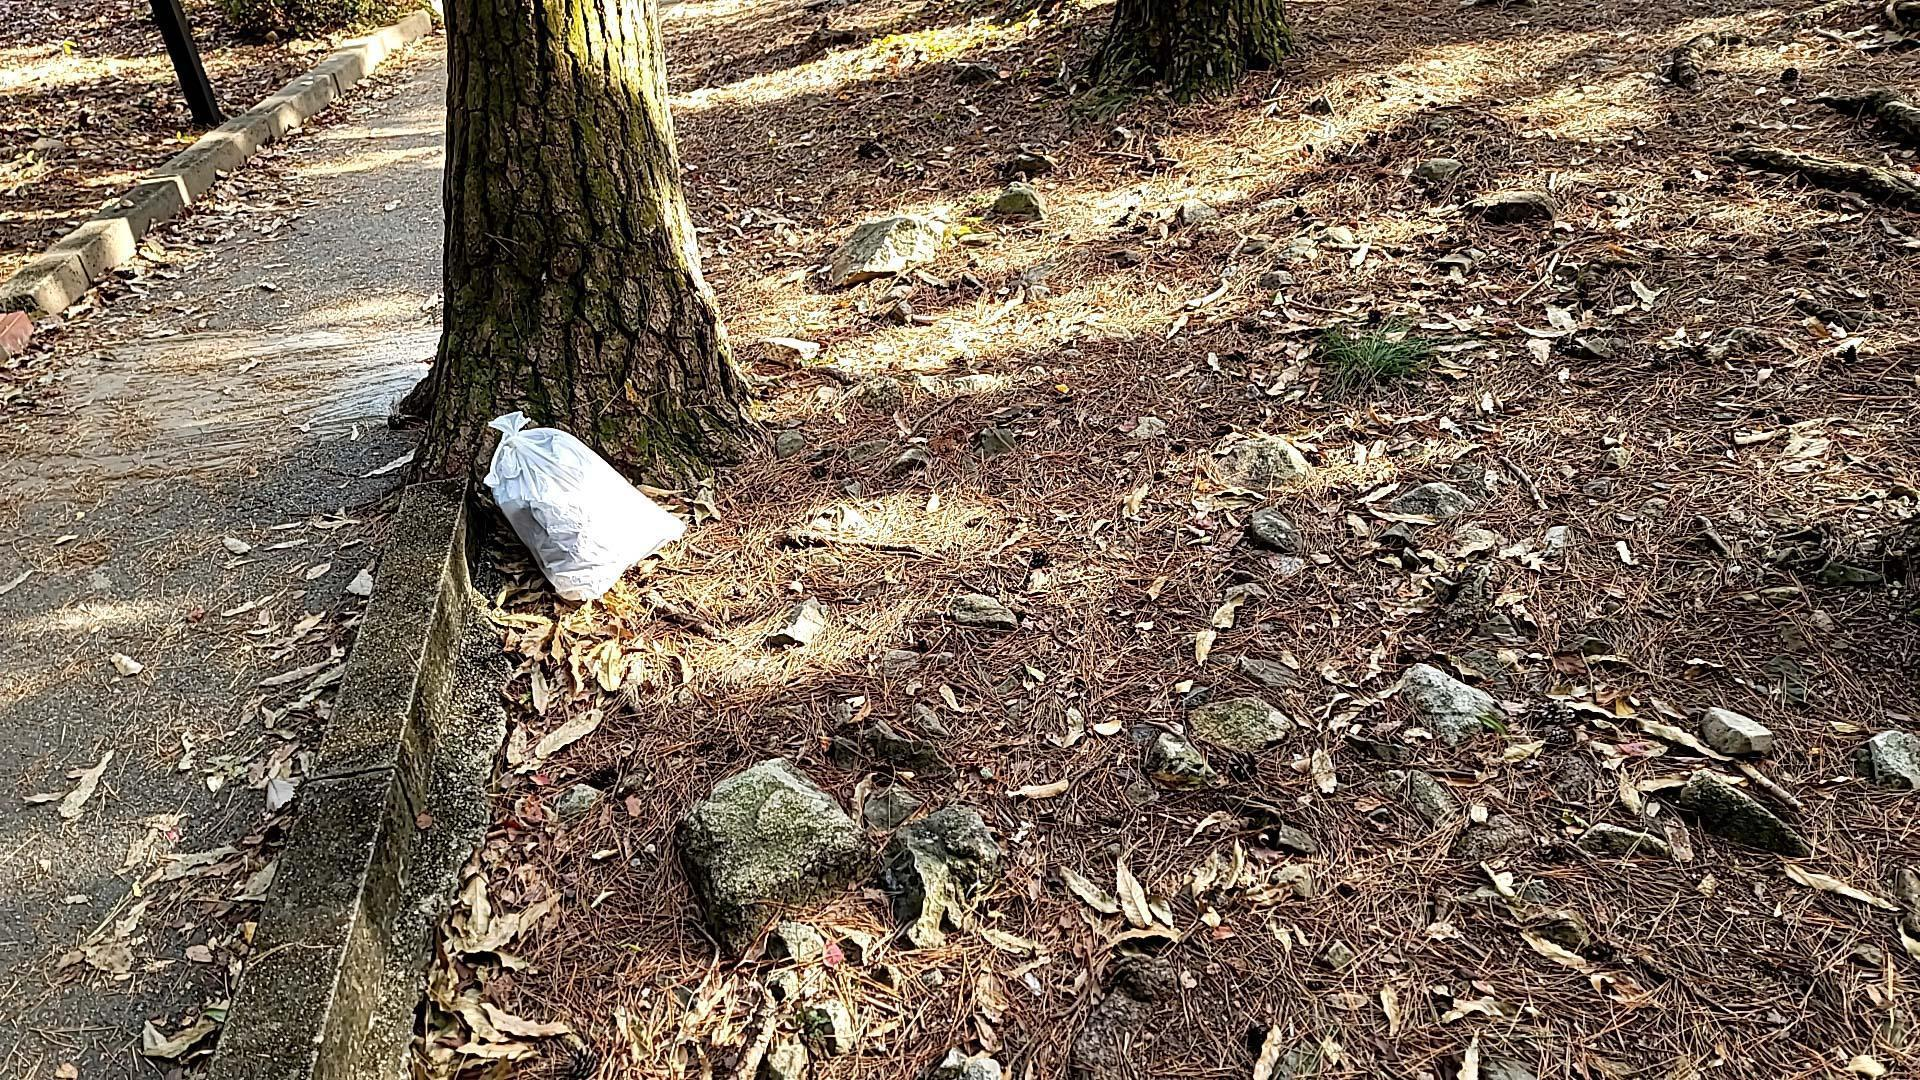white_bag: (473, 401, 694, 603)
